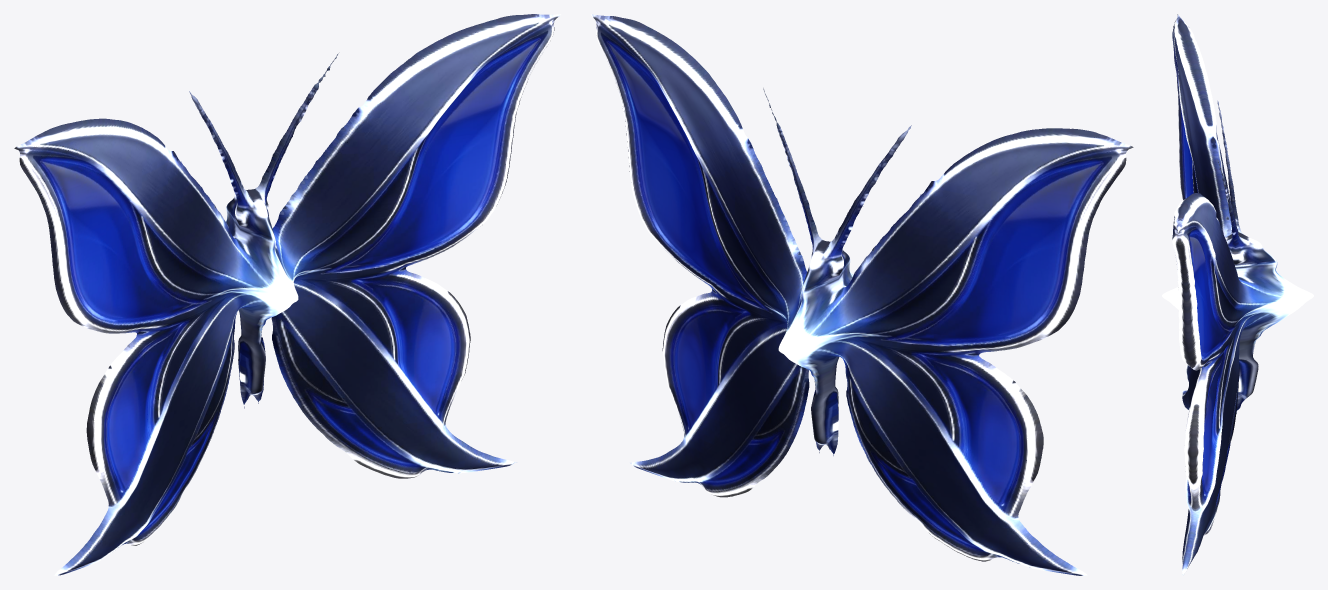
Rendered from axioux.glb.
The picture shows the model from 3 angles, left to right: view 1: azimuth 30°, elevation 25°; view 2: azimuth 150°, elevation 25°; view 3: azimuth 270°, elevation 25°; orthographic projection. The views are drawn at different scales.
Visible parts, largest first — view 1: AXIOUX_Futuristic_Butterfly; view 2: AXIOUX_Futuristic_Butterfly; view 3: AXIOUX_Futuristic_Butterfly.
Boxes of the visible parts, bbox=[...] form: AXIOUX_Futuristic_Butterfly: bbox=[14, 14, 560, 575]; AXIOUX_Futuristic_Butterfly: bbox=[591, 14, 1133, 575]; AXIOUX_Futuristic_Butterfly: bbox=[1162, 14, 1313, 575].
Bounding box in the file's own units: 1.76 × 1.38 × 0.515.
Materials: 1 (1 with a texture image).
